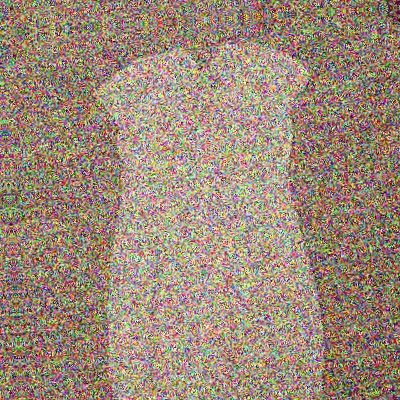Dress: (39, 24, 363, 400), (12, 0, 336, 17)
